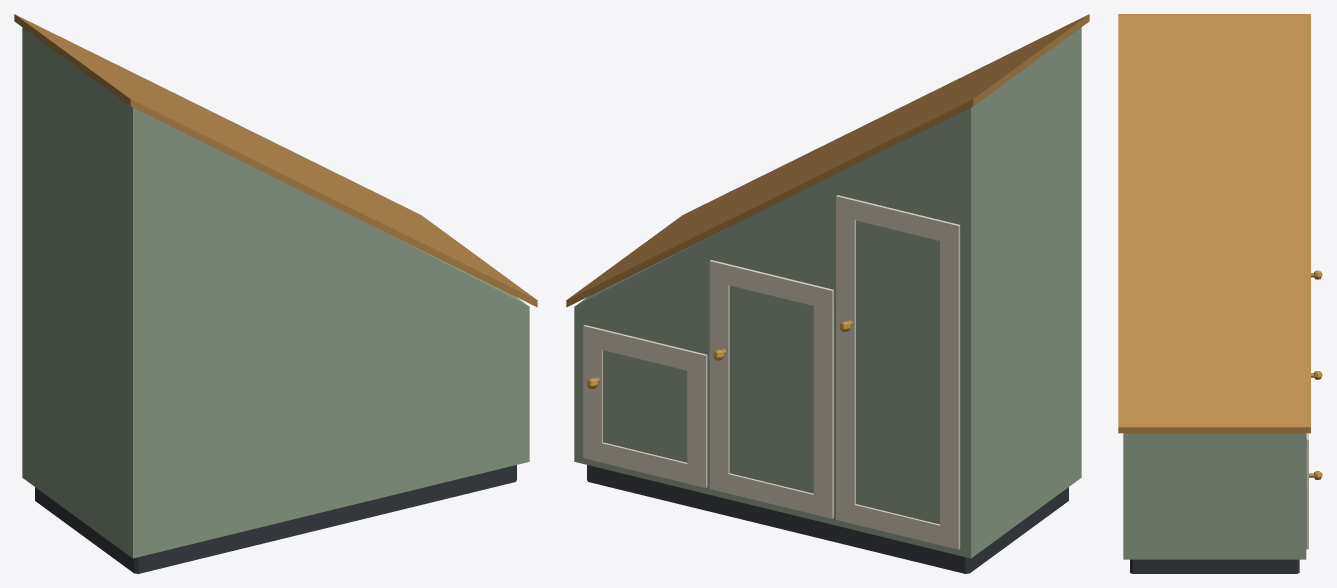
The model's file is SM_LPI_Stair_Understairs_01.fbx.
3 renders of one model, left to right at view 1: azimuth 30°, elevation 25°; view 2: azimuth 150°, elevation 25°; view 3: azimuth 270°, elevation 25°, orthographic. The views are drawn at different scales.
Parts seen in each view (by area): view 1: SM_LPI_Stair_Understairs_01; view 2: SM_LPI_Stair_Understairs_01; view 3: SM_LPI_Stair_Understairs_01.
Boxes of the visible parts, <box> form: SM_LPI_Stair_Understairs_01: <box>14,14,537,573</box>; SM_LPI_Stair_Understairs_01: <box>566,14,1089,573</box>; SM_LPI_Stair_Understairs_01: <box>1118,14,1322,573</box>.
Size of the model in its own units: 1.74 by 1.98 by 0.9154.
